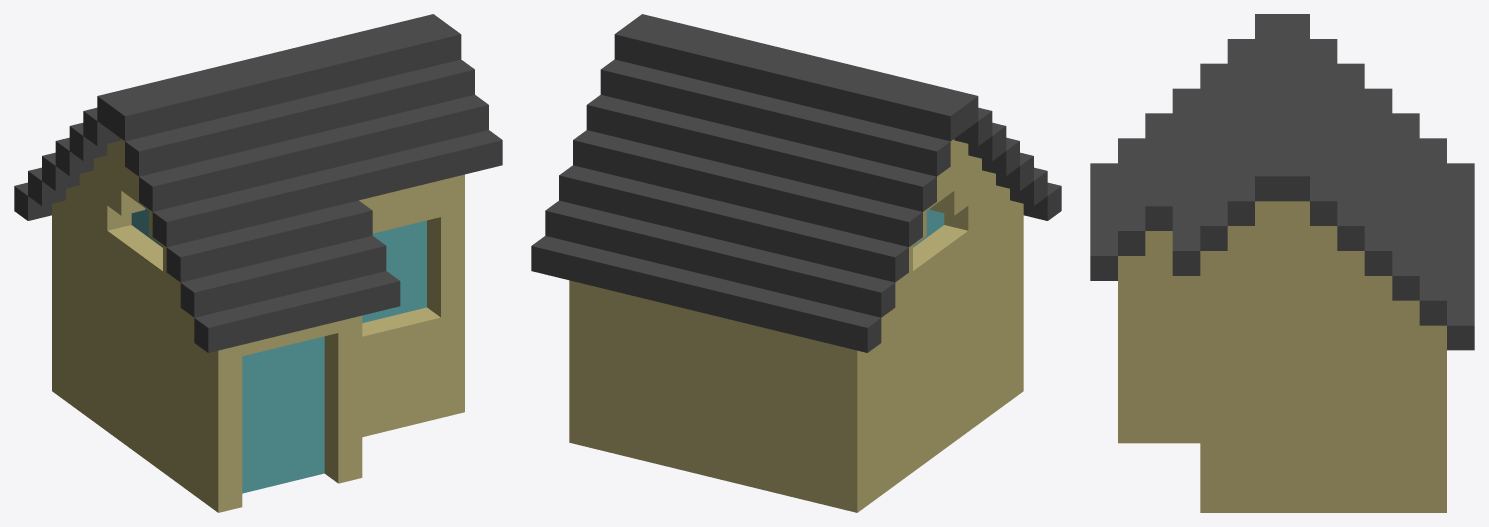
Rendered from Building13.fbx.
3 renders of one model, left to right at view 1: azimuth 30°, elevation 25°; view 2: azimuth 150°, elevation 25°; view 3: azimuth 270°, elevation 25°, orthographic.
Parts seen in each view (by area): view 1: ObjObject.016; view 2: ObjObject.016; view 3: ObjObject.016.
Boxes of the visible parts, x1,y1,x2,y2 form: ObjObject.016: (14, 14, 502, 512); ObjObject.016: (531, 14, 1061, 512); ObjObject.016: (1090, 14, 1474, 512).
Size of the model in its own units: 140 by 140 by 140.
Materials: 1 (1 with a texture image).
